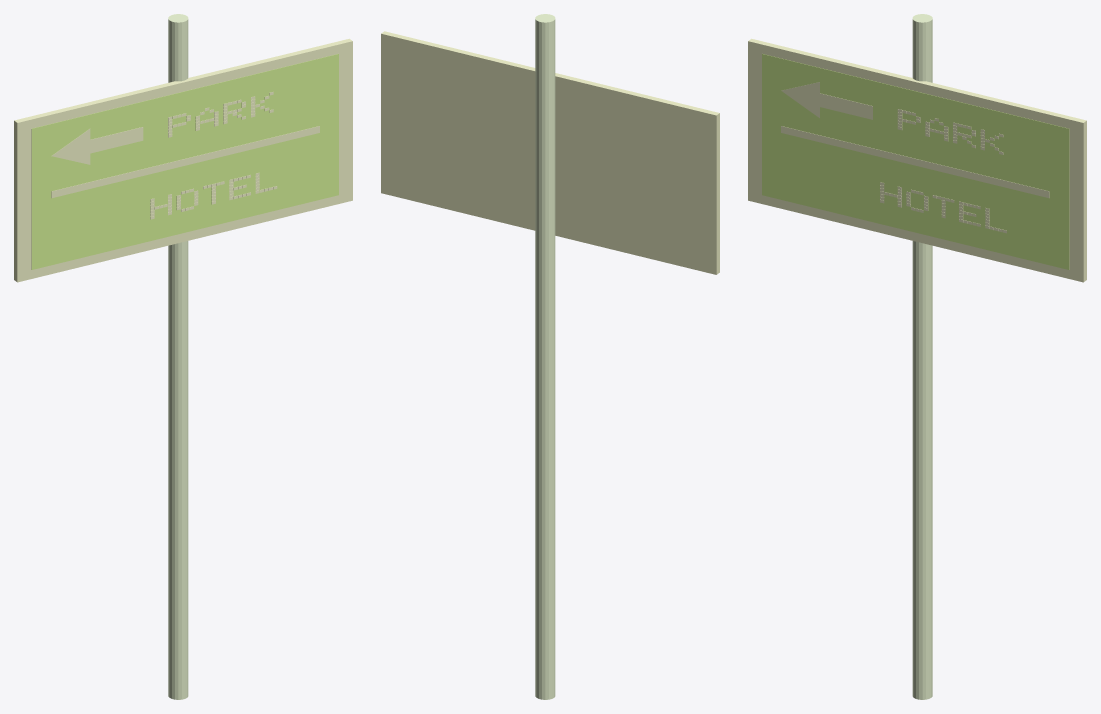
The model's file is sign_destination_stack_hotel_park_left.glb.
3 views of the same model, side by side, from view 1: azimuth 30°, elevation 25°; view 2: azimuth 150°, elevation 25°; view 3: azimuth 330°, elevation 25° (orthographic).
Visible parts, largest first — view 1: layer_1_00, plate_base_00, pole, layer_2_00, layer_2_137, layer_2_138; view 2: plate_base_00, pole; view 3: layer_1_00, plate_base_00, pole, layer_2_00, layer_2_137, layer_2_138.
Boxes of the visible parts, left/top/right/bottom form: layer_1_00: left=31, top=54, right=338, bottom=269; plate_base_00: left=14, top=38, right=352, bottom=282; pole: left=168, top=14, right=188, bottom=699; layer_2_00: left=51, top=126, right=319, bottom=198; layer_2_137: left=90, top=127, right=143, bottom=153; layer_2_138: left=51, top=128, right=90, bottom=164; plate_base_00: left=381, top=31, right=719, bottom=274; pole: left=535, top=14, right=555, bottom=699; layer_1_00: left=762, top=54, right=1069, bottom=269; plate_base_00: left=748, top=38, right=1086, bottom=282; pole: left=912, top=14, right=932, bottom=699; layer_2_00: left=781, top=126, right=1049, bottom=198; layer_2_137: left=820, top=93, right=872, bottom=119; layer_2_138: left=781, top=82, right=819, bottom=117.
Size of the model in its own units: 1.14 by 2.2 by 0.0725.
